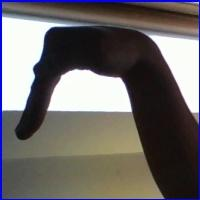A: (9, 19, 170, 157)
